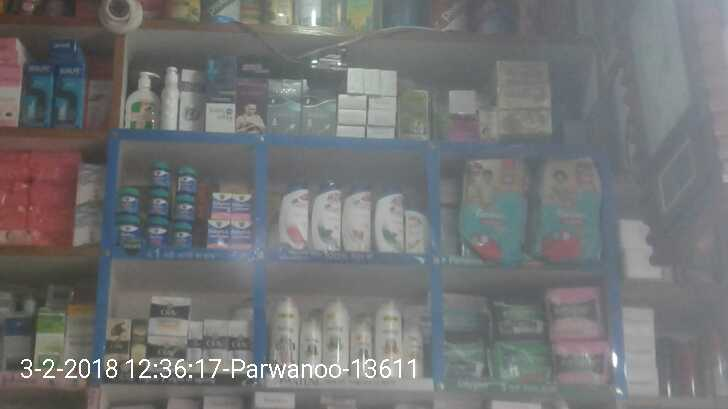vicks: (114, 160, 256, 252)
